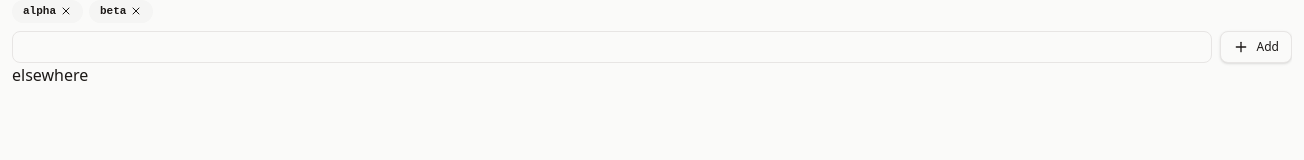
Scenario: ChipInput › removes a value with its own button
Click the button with test id "chips-remove-alpha": (66, 11) x1=60 y1=5 x2=72 y2=17
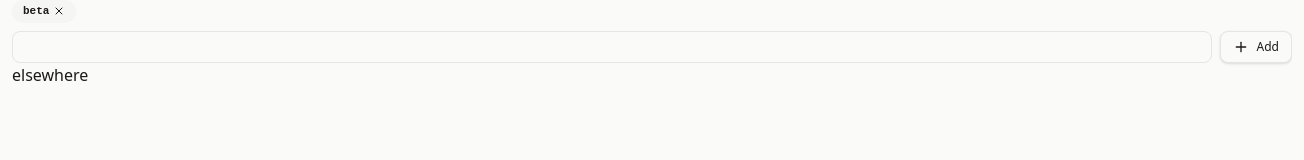
Check: the element with test id "chips-item-beta" is shown, box x1=12 y1=0 x2=76 y2=22
Check: the element with test id "chips-item-alpha" is gone
